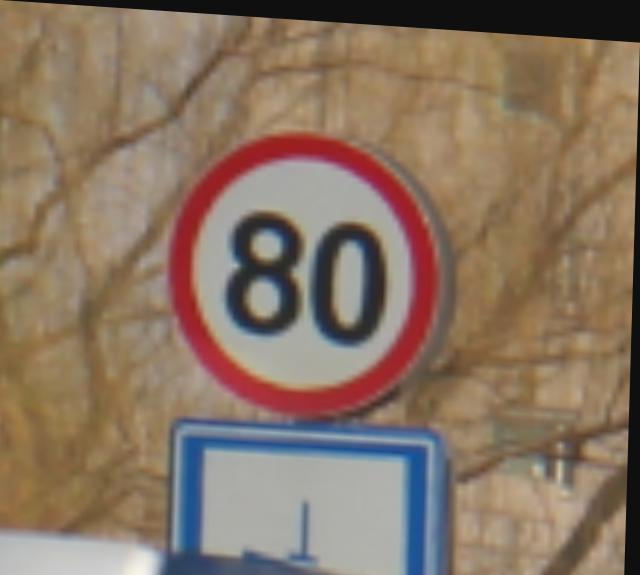limit80: (152, 110, 463, 425)
